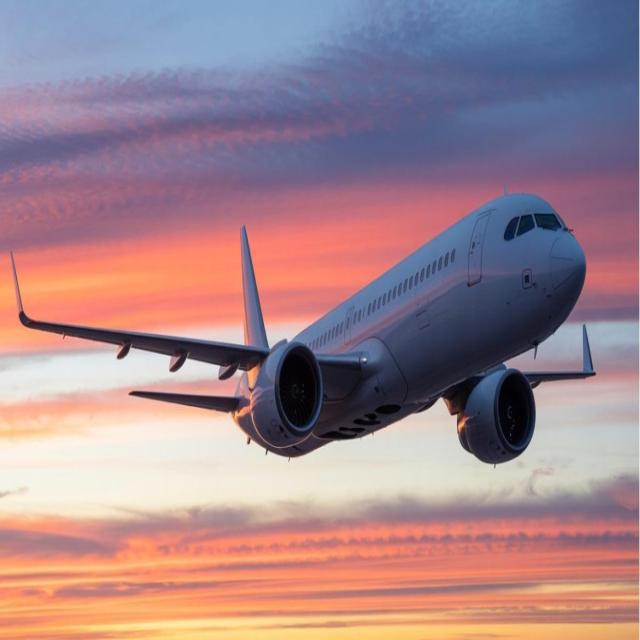aircraft: (0, 155, 629, 589)
